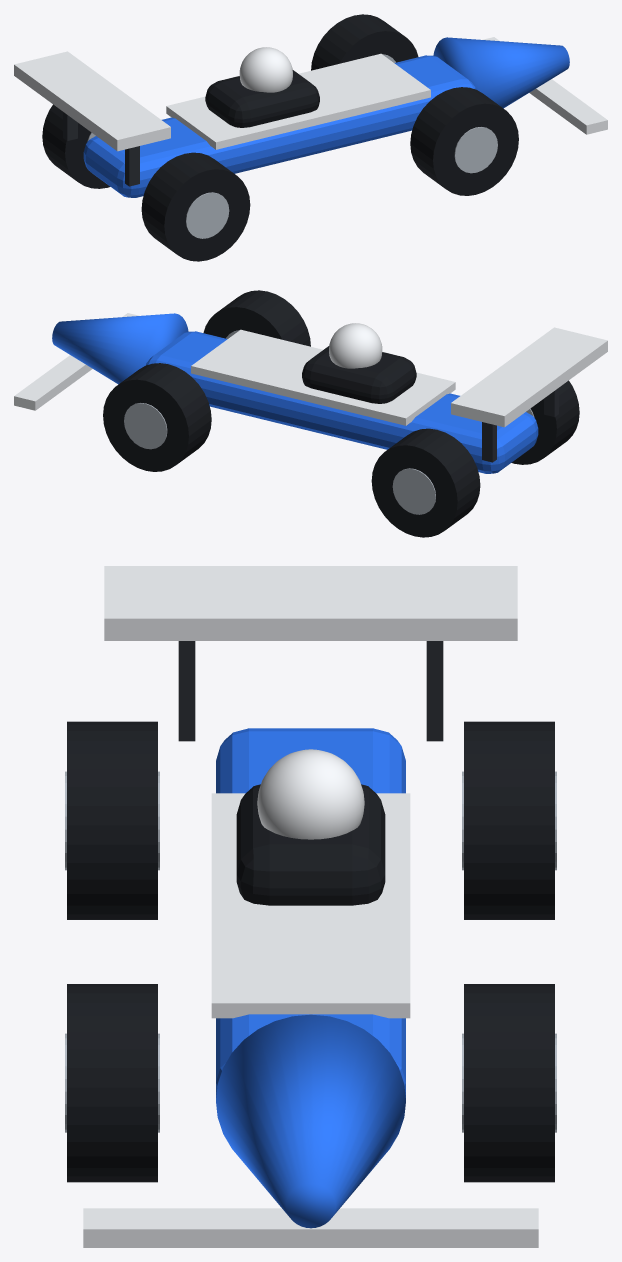
The model's file is auto_carreras_azul.glb.
3 renders of one model, top to bottom at view 1: azimuth 30°, elevation 25°; view 2: azimuth 150°, elevation 25°; view 3: azimuth 270°, elevation 25°, orthographic. The views are drawn at different scales.
Visible parts, largest first — view 1: Cube, Cube.002, Cylinder, Cylinder.004, Cube.006, Cone, Cube.001, Cylinder.006, Cylinder.002, Sphere, Cube.003, Cylinder.001 (+3 smaller); view 2: Cube, Cube.002, Cylinder.002, Cylinder.006, Cube.006, Cone, Cube.001, Cylinder.004, Cylinder, Sphere, Cube.003, Cylinder.003 (+3 smaller); view 3: Cube.006, Cone, Cube.002, Cylinder, Cylinder.002, Cylinder.004, Cylinder.006, Cube.003, Cube.001, Cube, Sphere, Cube.004 (+1 smaller).
Boxes of the visible parts, box(x1,y1,x2,y2) form: Cube: box(83, 55, 475, 197); Cube.002: box(166, 53, 430, 149); Cylinder: box(141, 152, 250, 261); Cylinder.004: box(410, 87, 518, 195); Cube.006: box(14, 51, 170, 151); Cone: box(433, 37, 569, 108); Cube.001: box(205, 70, 319, 127); Cylinder.006: box(311, 14, 418, 70); Cylinder.002: box(42, 104, 110, 188); Sphere: box(239, 47, 292, 92); Cube.003: box(482, 37, 607, 134); Cylinder.001: box(186, 192, 229, 238); Cube: box(146, 331, 538, 473); Cube.002: box(191, 329, 455, 425); Cylinder.002: box(371, 428, 480, 537); Cylinder.006: box(103, 363, 211, 471); Cube.006: box(451, 327, 607, 427); Cone: box(52, 313, 188, 384); Cube.001: box(302, 346, 416, 403); Cylinder.004: box(203, 290, 310, 346); Cylinder: box(511, 380, 579, 464); Sphere: box(329, 323, 382, 368); Cube.003: box(14, 313, 139, 410); Cylinder.003: box(392, 468, 435, 514); Cube.006: box(104, 566, 517, 640); Cone: box(216, 1014, 405, 1228); Cube.002: box(211, 793, 410, 1018); Cylinder: box(67, 721, 157, 919); Cylinder.002: box(464, 721, 554, 919); Cylinder.004: box(67, 984, 157, 1182); Cylinder.006: box(464, 984, 554, 1182); Cube.003: box(83, 1208, 538, 1247); Cube.001: box(236, 784, 385, 905); Cube: box(216, 728, 405, 1097); Sphere: box(257, 749, 364, 839); Cube.004: box(178, 641, 195, 741).
Size of the model in its own units: 2.78 by 0.73 by 1.19.
